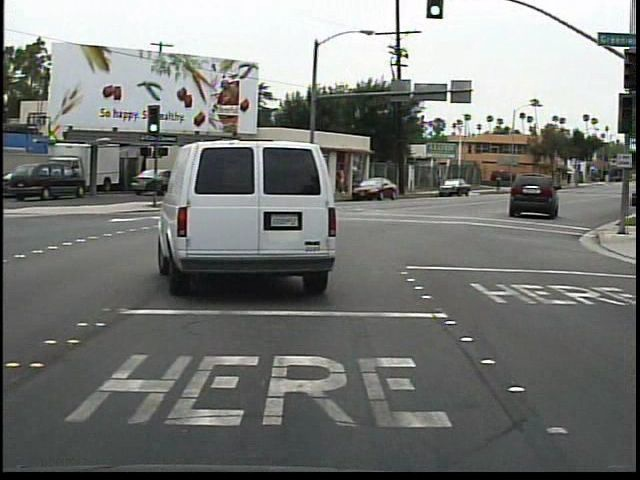person: (336, 160, 350, 194), (492, 172, 503, 193)
